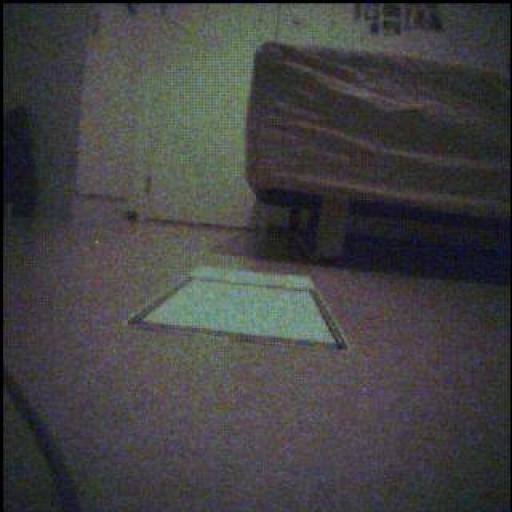pad: (131, 268, 348, 350)
